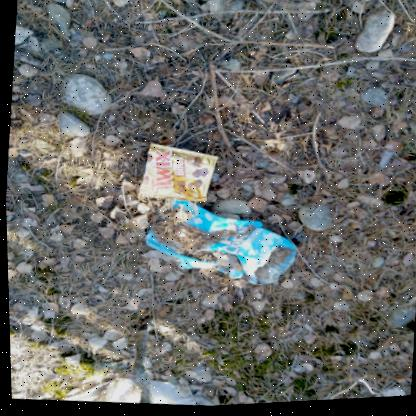Plastic: (143, 201, 295, 288), (137, 145, 217, 203)
